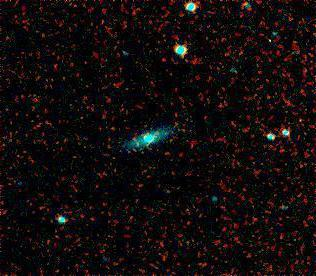star: (123, 129, 153, 159)
